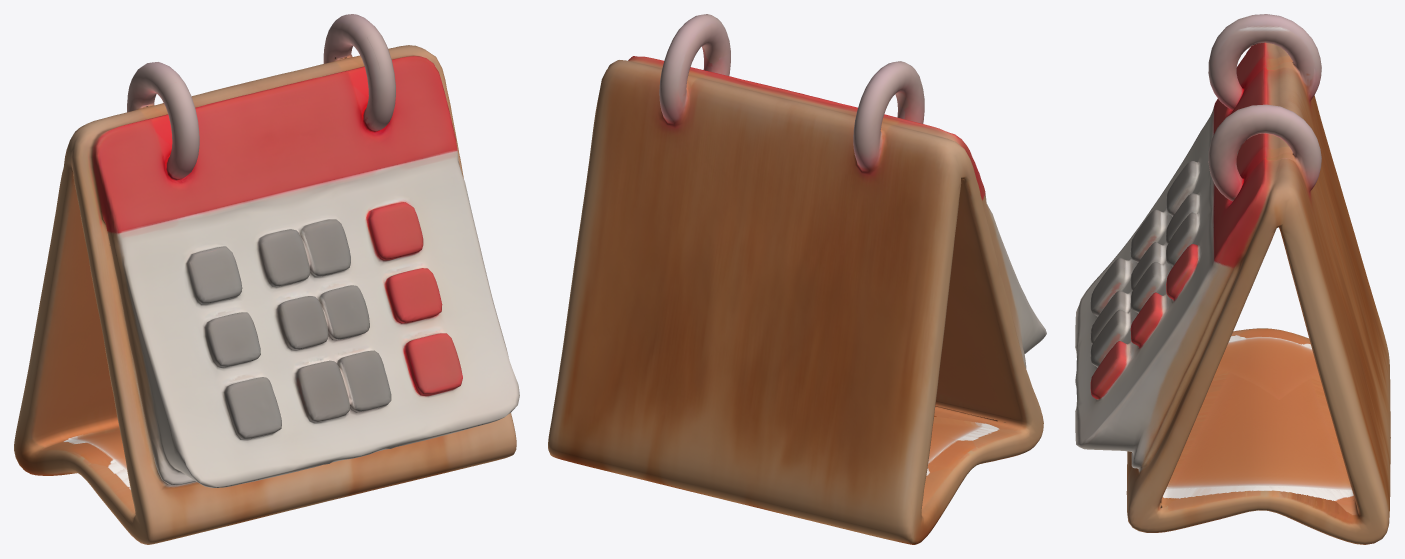
The model's file is calendar.glb.
The picture shows the model from 3 angles, left to right: view 1: azimuth 30°, elevation 25°; view 2: azimuth 150°, elevation 25°; view 3: azimuth 270°, elevation 25°; orthographic projection. The views are drawn at different scales.
Parts seen in each view (by area): view 1: model; view 2: model; view 3: model.
Part boxes in pixels (bbox=[...]): model: bbox=[14, 14, 519, 544]; model: bbox=[548, 14, 1046, 544]; model: bbox=[1075, 14, 1390, 544].
Bounding box in the file's own units: 1.73 × 1.9 × 1.35.
Materials: 1 (1 with a texture image).
